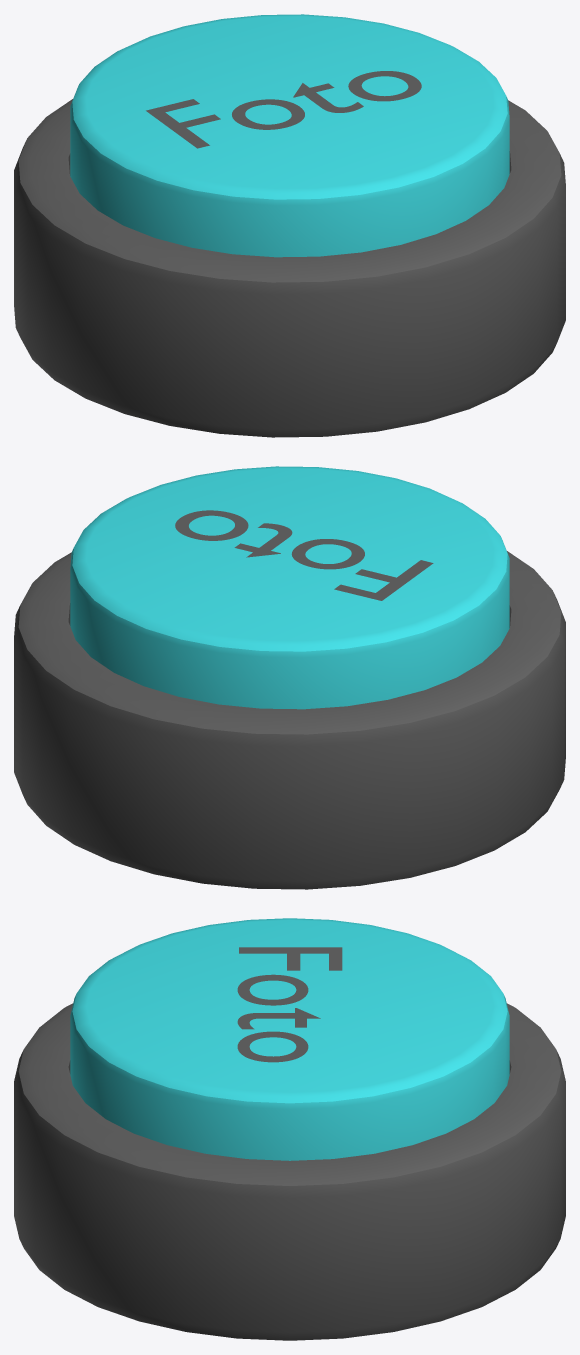
The model's file is FotoButton.fbx.
3 views of the same model, one above another, from view 1: azimuth 30°, elevation 25°; view 2: azimuth 150°, elevation 25°; view 3: azimuth 270°, elevation 25° (orthographic).
Visible parts, largest first — view 1: Outer, Final; view 2: Outer, Final; view 3: Outer, Final.
Boxes of the visible parts, box(x1,y1,x2,y2) form: Outer: box(14, 99, 565, 437); Final: box(70, 14, 509, 257); Outer: box(14, 551, 565, 889); Final: box(70, 466, 509, 709); Outer: box(14, 1003, 565, 1340); Final: box(70, 918, 509, 1160).
Size of the model in its own units: 200 by 90.15 by 200.
